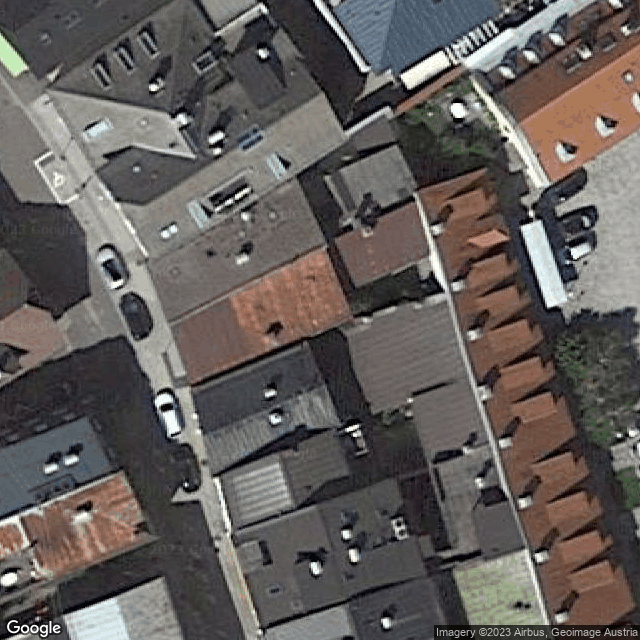obstacles: (590, 115, 621, 145), (550, 141, 579, 169), (494, 63, 525, 85), (390, 515, 413, 543), (569, 41, 598, 63), (520, 46, 547, 67), (158, 222, 183, 244), (71, 510, 98, 528), (547, 29, 569, 50), (147, 79, 169, 98), (206, 130, 230, 147), (627, 90, 640, 120), (1, 572, 19, 592), (232, 252, 254, 267), (63, 454, 85, 468), (620, 70, 638, 87), (617, 24, 637, 39), (310, 560, 325, 579), (44, 462, 62, 477), (341, 529, 356, 544), (269, 413, 286, 426), (256, 47, 271, 61), (264, 387, 280, 400), (240, 212, 255, 225), (381, 617, 394, 632), (350, 549, 361, 566), (607, 1, 625, 11), (212, 148, 223, 156), (133, 166, 143, 173)
roof: (96, 47, 351, 262), (147, 176, 354, 386), (47, 1, 239, 172), (474, 1, 640, 185), (227, 479, 429, 630), (1, 416, 159, 607), (192, 343, 344, 479), (218, 421, 384, 532), (326, 1, 503, 76), (263, 578, 447, 640), (330, 203, 431, 294), (1, 251, 68, 386), (324, 146, 421, 226), (63, 579, 187, 640)
